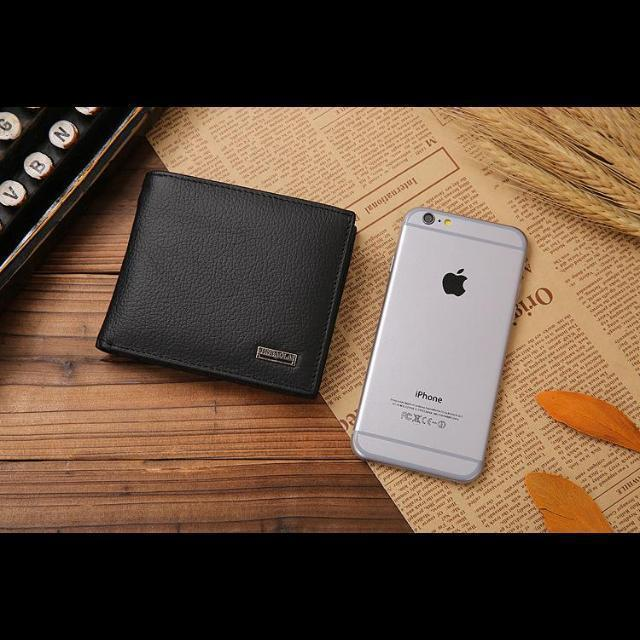wallet: (96, 168, 354, 402)
